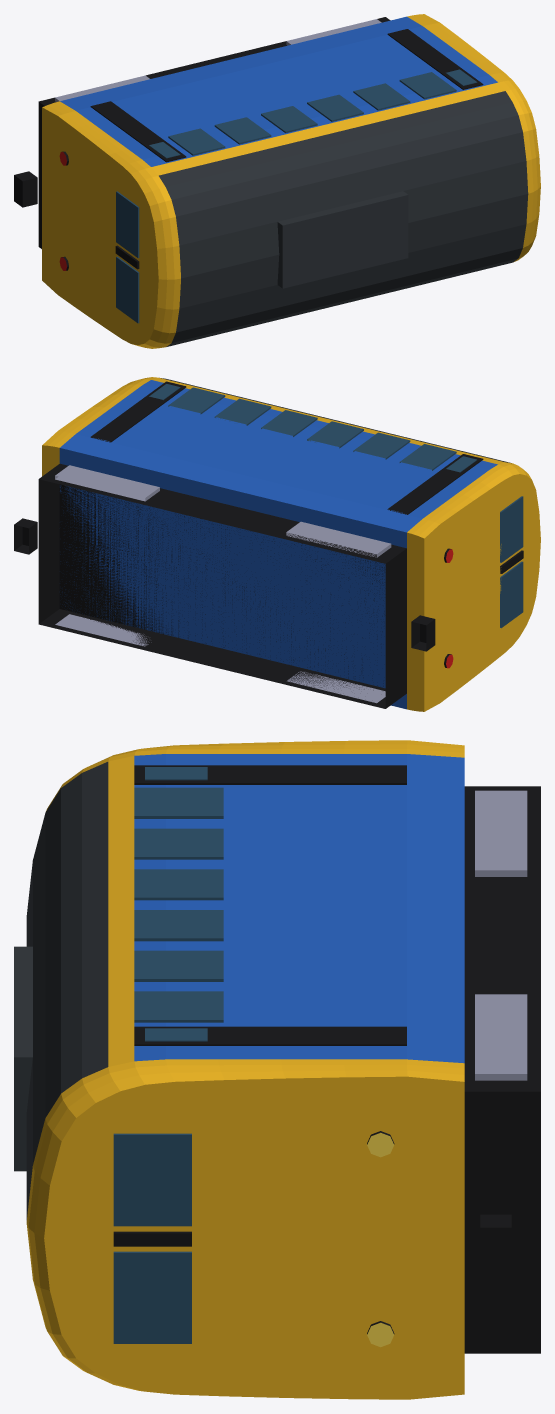
3 views of the same model, one above another, from view 1: azimuth 30°, elevation 25°; view 2: azimuth 150°, elevation 25°; view 3: azimuth 270°, elevation 25° (orthographic). The views are drawn at different scales.
Parts seen in each view (by area): view 1: default_body, default_roof_pod, default_skirt, default_side1_2.75_2.00_black, default_side1_-3.15_2.00_black, default_screen-1-0.62, default_screen-10.62, default_side1_1.06_3.75_glass_dark, default_side1_1.98_3.75_glass_dark, default_side1_-1.70_3.75_glass_dark, default_side1_-2.62_3.75_glass_dark, default_side1_0.14_3.75_glass_dark (+4 smaller); view 2: default_body, default_skirt, default_pod11, default_pod-11, default_side1_2.75_2.00_black, default_side1_-3.15_2.00_black, default_pod-1-1, default_screen-10.62, default_screen-1-0.62, default_pod1-1, default_side1_-0.78_3.75_glass_dark, default_side1_1.06_3.75_glass_dark (+6 smaller); view 3: default_body, default_skirt, default_screen10.62, default_screen1-0.62, default_side1_2.75_2.00_black, default_side1_-3.15_2.00_black, default_pod11, default_pod-11, default_roof_pod, default_side1_0.14_3.75_glass_dark, default_side1_1.06_3.75_glass_dark, default_side1_1.98_3.75_glass_dark (+7 smaller).
Boxes of the visible parts, x1,y1,x2,y2 form: default_body: (42,14,540,348); default_roof_pod: (277,191,408,288); default_skirt: (38,17,390,248); default_side1_2.75_2.00_black: (387,29,483,89); default_side1_-3.15_2.00_black: (90,101,186,162); default_screen-1-0.62: (116,256,139,323); default_screen-10.62: (116,191,139,257); default_side1_1.06_3.75_glass_dark: (353,83,410,110); default_side1_1.98_3.75_glass_dark: (399,72,456,99); default_side1_-1.70_3.75_glass_dark: (214,117,271,144); default_side1_-2.62_3.75_glass_dark: (168,128,225,155); default_side1_0.14_3.75_glass_dark: (307,94,363,121); default_body: (42,377,540,711); default_skirt: (38,463,406,708); default_pod11: (55,465,159,501); default_pod-11: (286,521,391,557); default_side1_2.75_2.00_black: (90,381,186,442); default_side1_-3.15_2.00_black: (387,454,483,514); default_pod-1-1: (287,671,385,703); default_screen-10.62: (500,496,523,562); default_screen-1-0.62: (500,561,523,628); default_pod1-1: (55,614,151,646); default_side1_-0.78_3.75_glass_dark: (307,421,363,448); default_side1_1.06_3.75_glass_dark: (214,398,271,425); default_body: (26,740,464,1399); default_skirt: (464,786,540,1353); default_screen10.62: (113,1133,191,1226); default_screen1-0.62: (113,1251,191,1343); default_side1_2.75_2.00_black: (134,1026,406,1045); default_side1_-3.15_2.00_black: (134,765,406,784); default_pod11: (475,994,527,1080); default_pod-11: (475,790,527,876); default_roof_pod: (14,946,32,1171); default_side1_0.14_3.75_glass_dark: (134,910,223,941); default_side1_1.06_3.75_glass_dark: (134,950,223,981); default_side1_1.98_3.75_glass_dark: (134,991,223,1022).
Size of the model in its own units: 8.2 by 3.5 by 5.03.
